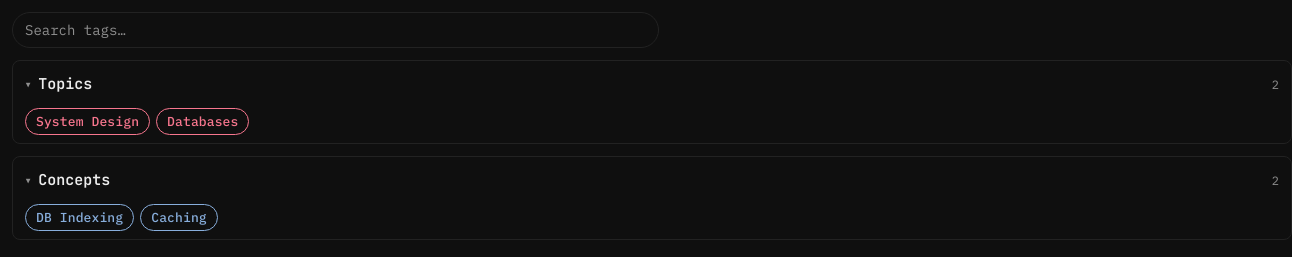
Test case: TagPicker › shows create buttons after a short delay when query has no matches
The width and height of the screenshot is (1292, 257).
Type "Brand New Tag" into the search field at (336, 30), box left=12, top=12, right=659, bottom=48
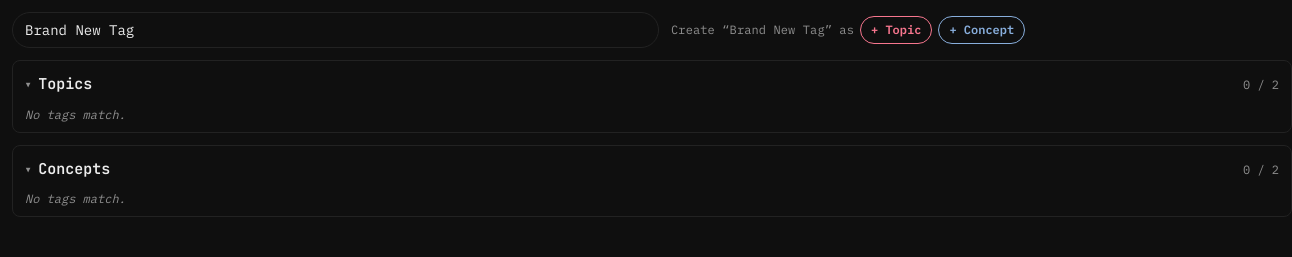
Now the button "+ Topic" is enabled, box left=860, top=16, right=932, bottom=44
Now the button "+ Concept" is enabled, box left=938, top=16, right=1025, bottom=44
